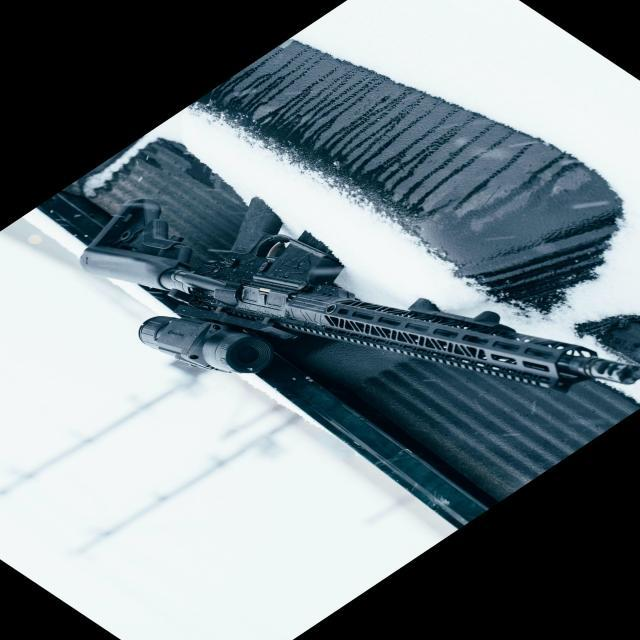weapon: (81, 199, 640, 395)
